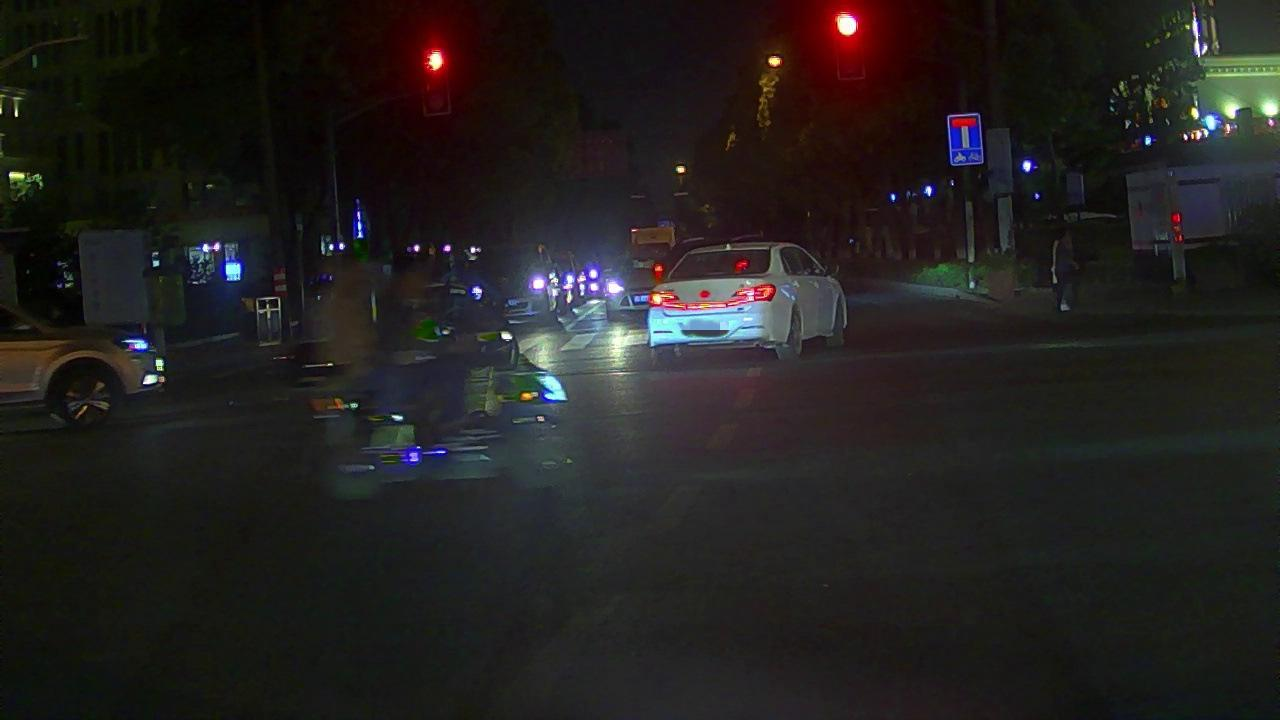traffic_light: (832, 6, 863, 79), (421, 44, 446, 115)
